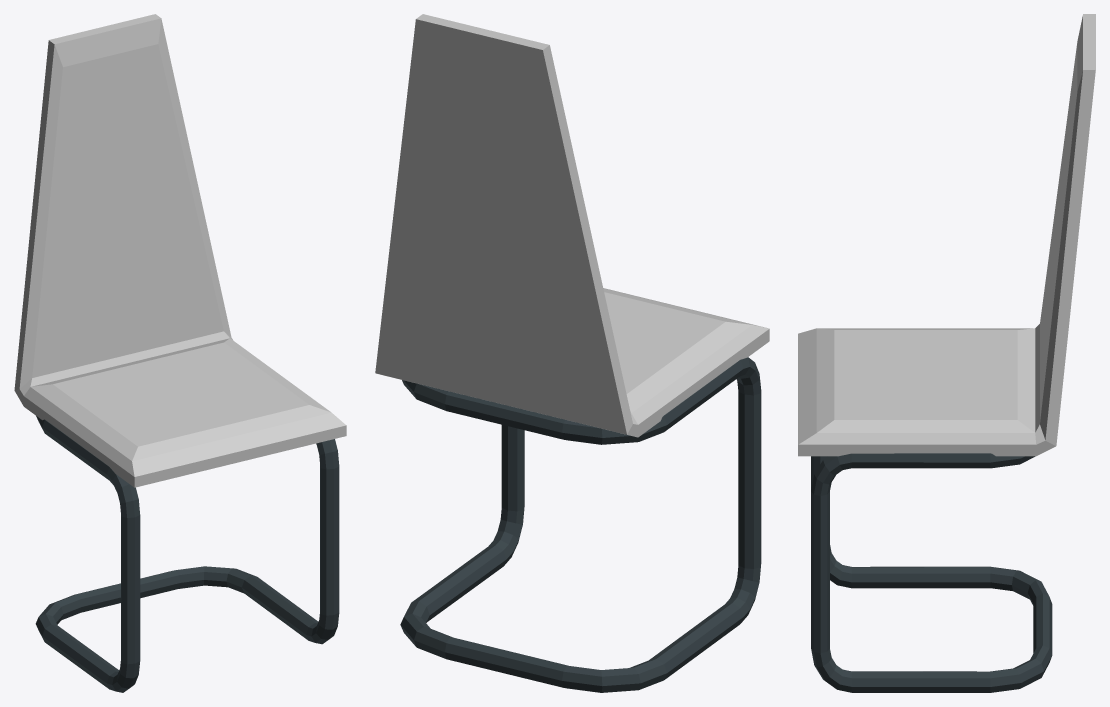
File: ChairV3.fbx
3 renders of one model, left to right at view 1: azimuth 30°, elevation 25°; view 2: azimuth 150°, elevation 25°; view 3: azimuth 270°, elevation 25°, orthographic. The views are drawn at different scales.
Parts seen in each view (by area): view 1: ChairV3; view 2: ChairV3; view 3: ChairV3.
Boxes of the visible parts, x1=… form: ChairV3: x1=14, y1=14, x2=346, y2=692; ChairV3: x1=375, y1=14, x2=769, y2=692; ChairV3: x1=798, y1=14, x2=1095, y2=692.
Size of the model in its own units: 53.46 by 130 by 58.77.
